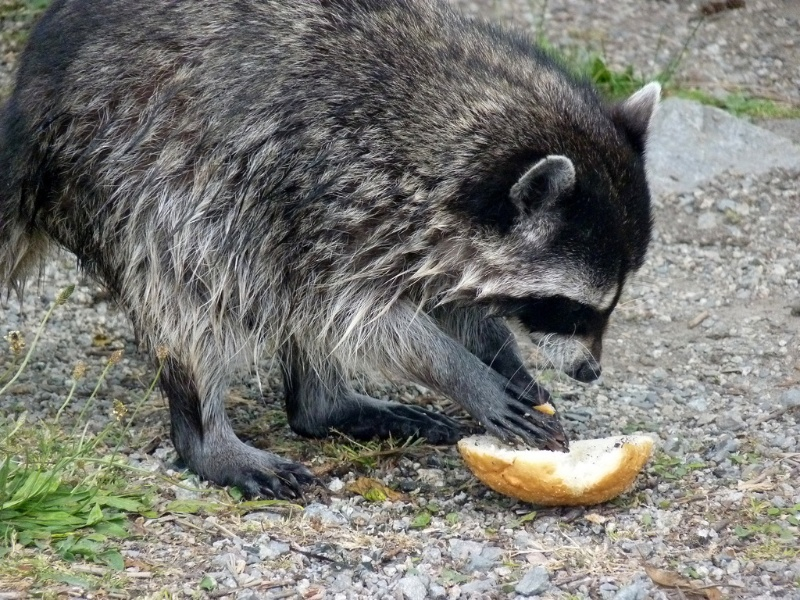raccoon: (5, 1, 664, 513)
